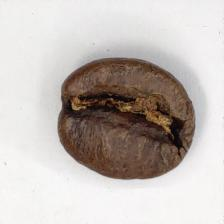NG: (69, 83, 186, 162)
